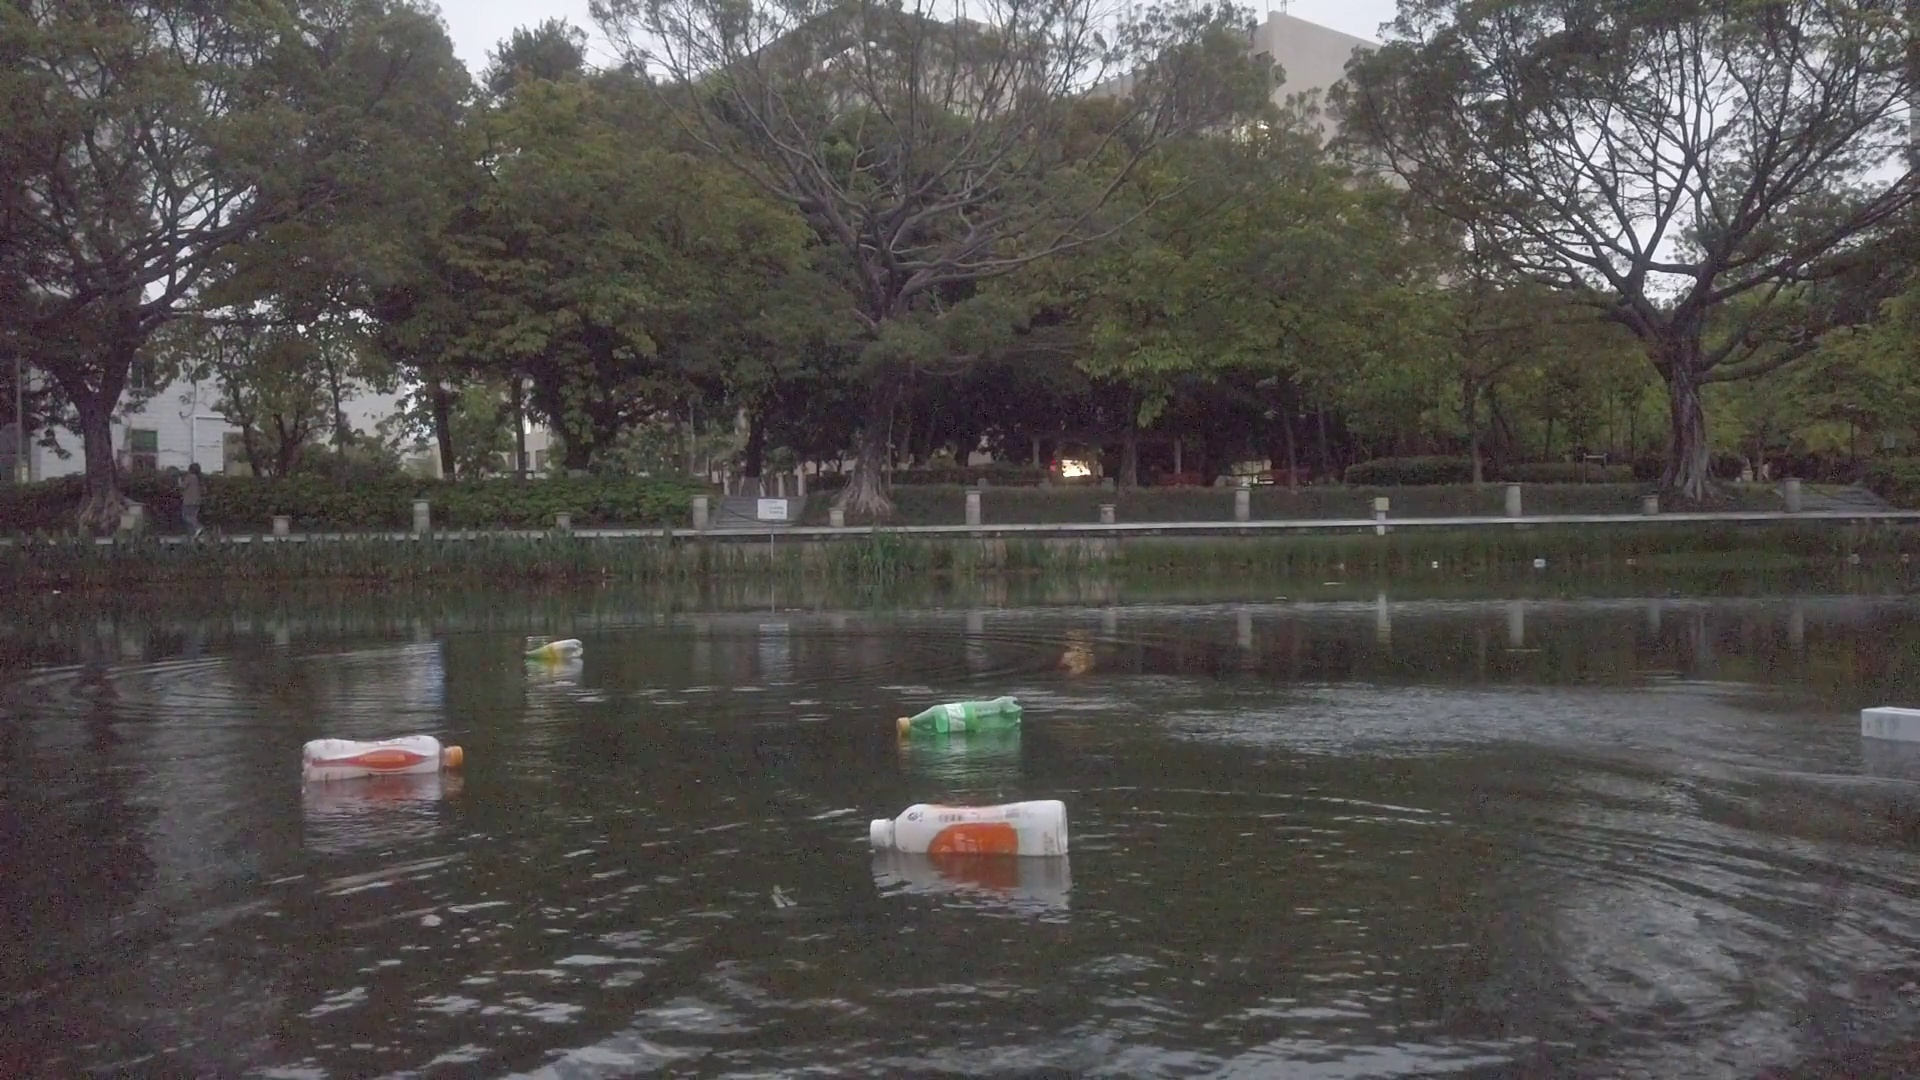bottle: (872, 796, 1071, 860), (307, 733, 463, 783), (898, 694, 1025, 735), (525, 637, 587, 665)
carton: (1861, 699, 1915, 746), (1534, 556, 1545, 564)
